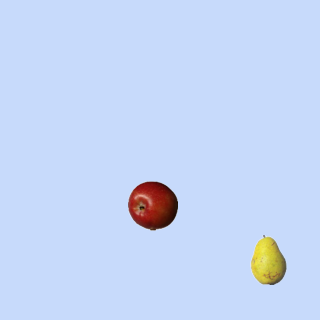Apple Braeburn: (127, 180, 177, 230)
Pear Monster: (243, 234, 293, 284)
